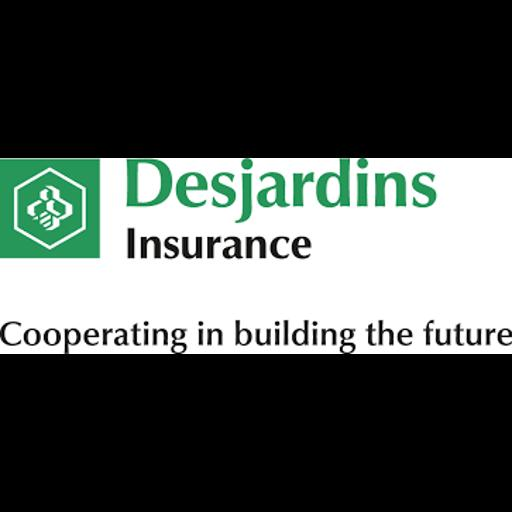Desjardins: (0, 158, 512, 354)
